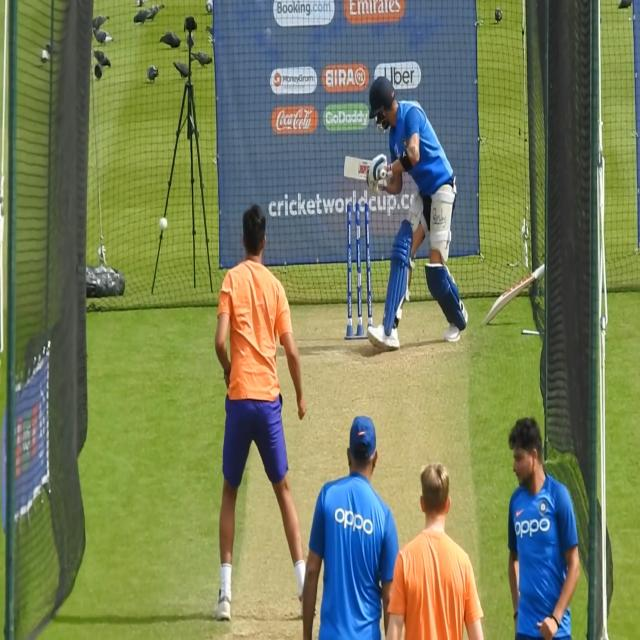ball: (158, 214, 170, 234)
stump: (346, 204, 373, 340)
